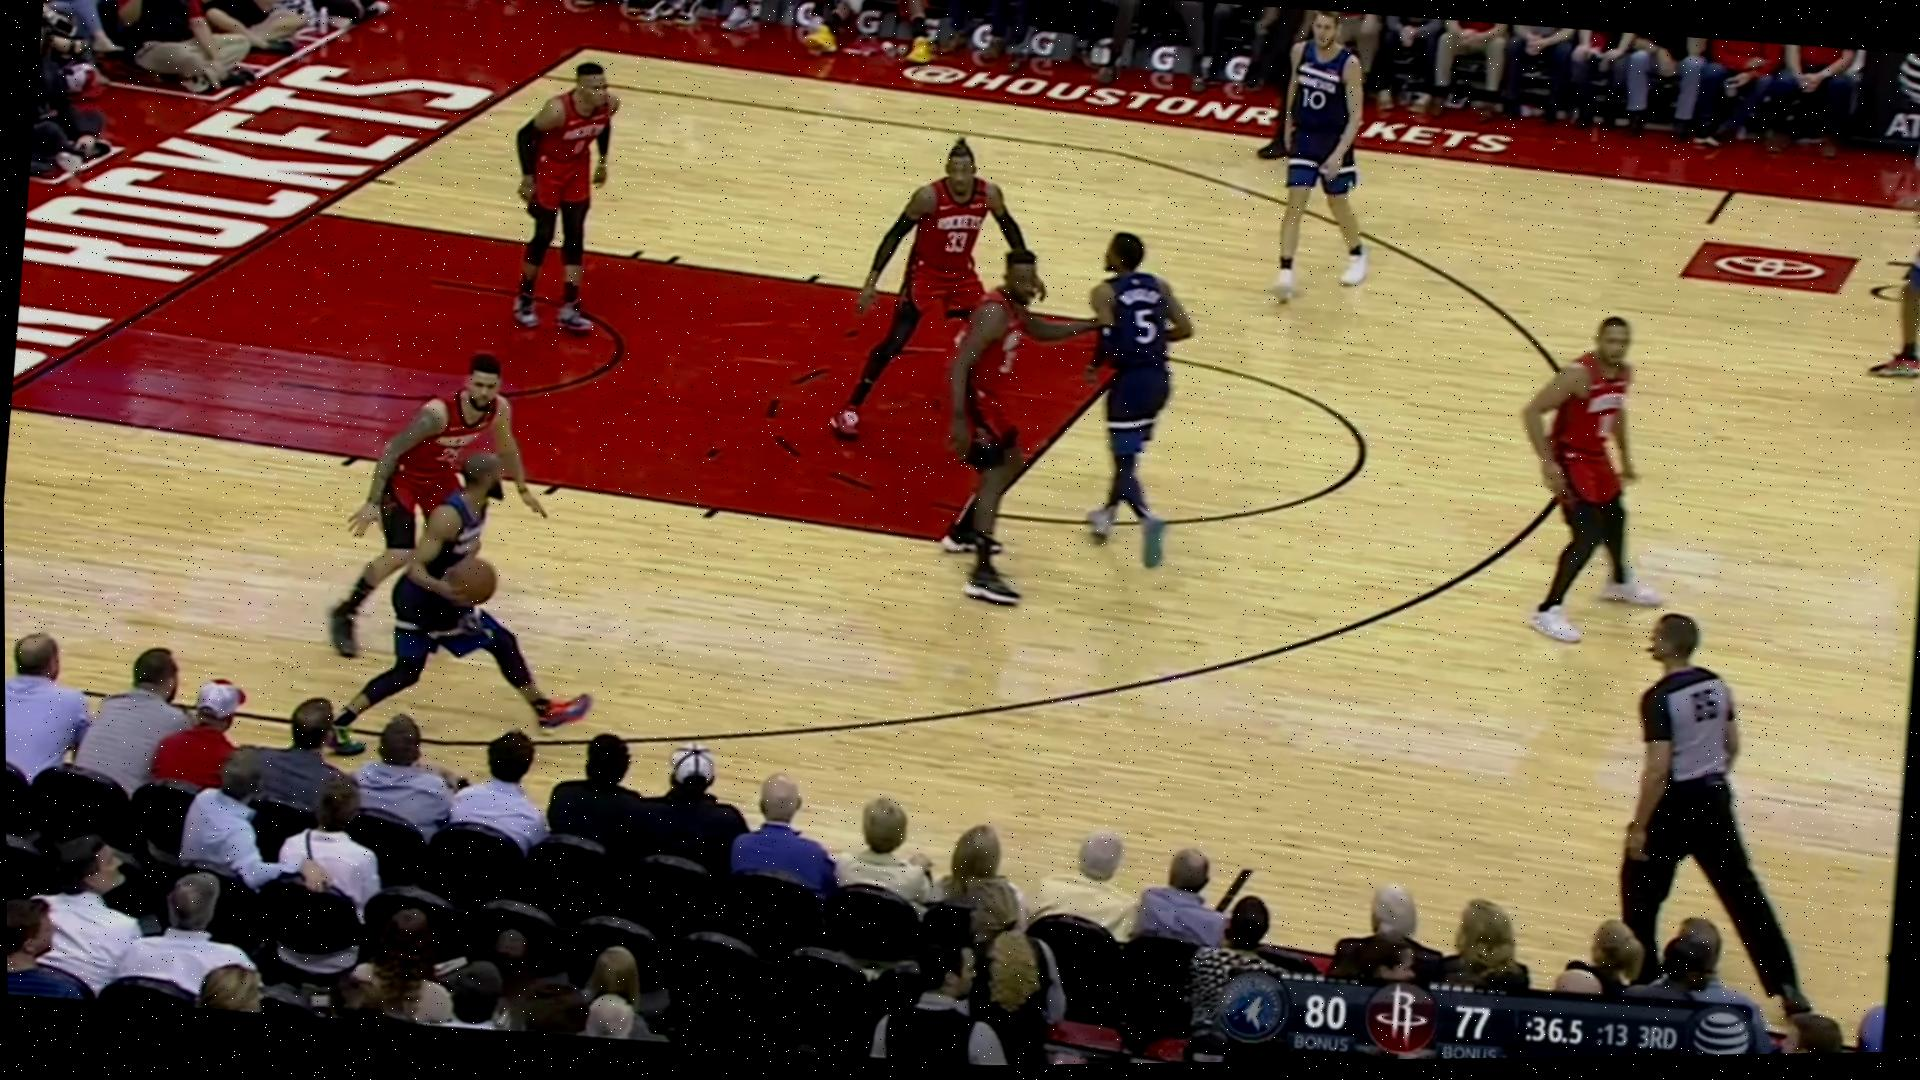no_foul: (342, 356, 576, 698)
